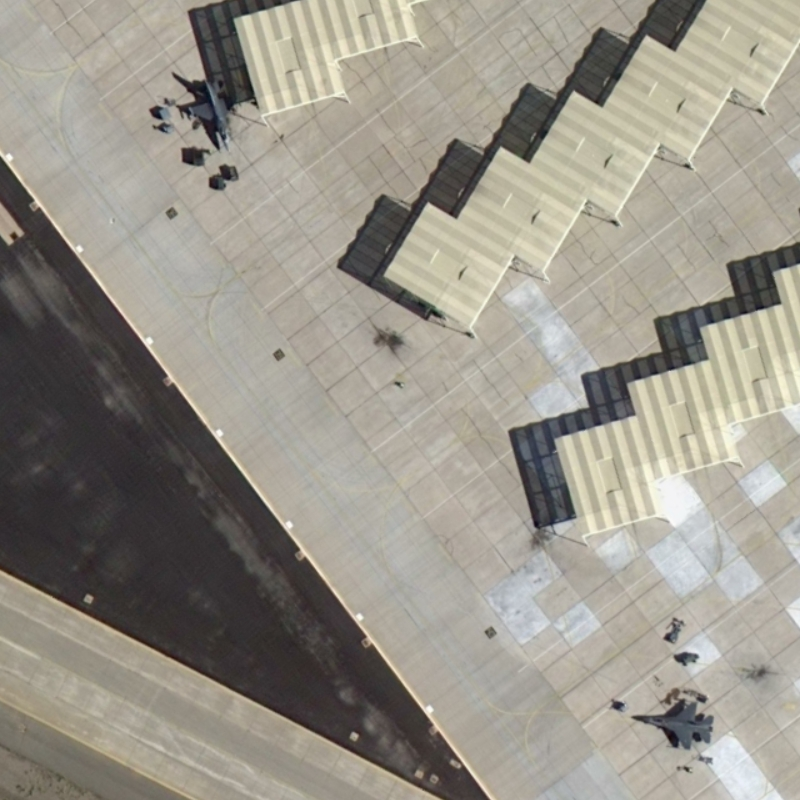A5: (629, 697, 717, 754), (182, 76, 243, 152)
